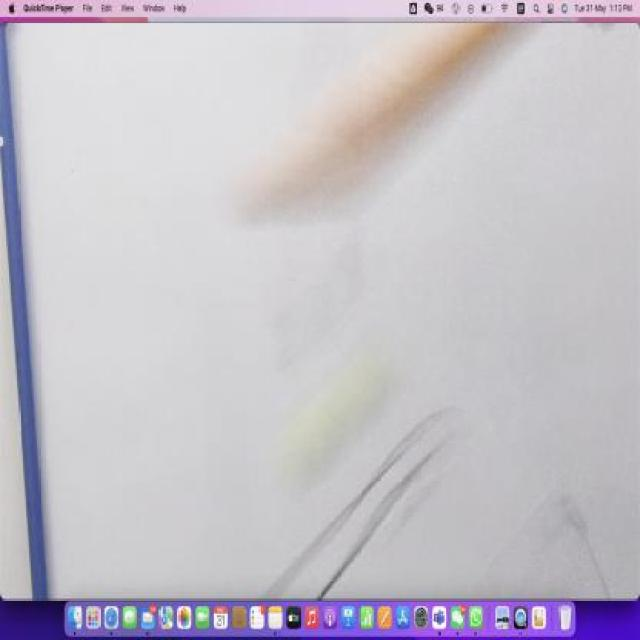baseball: (263, 347, 395, 482)
